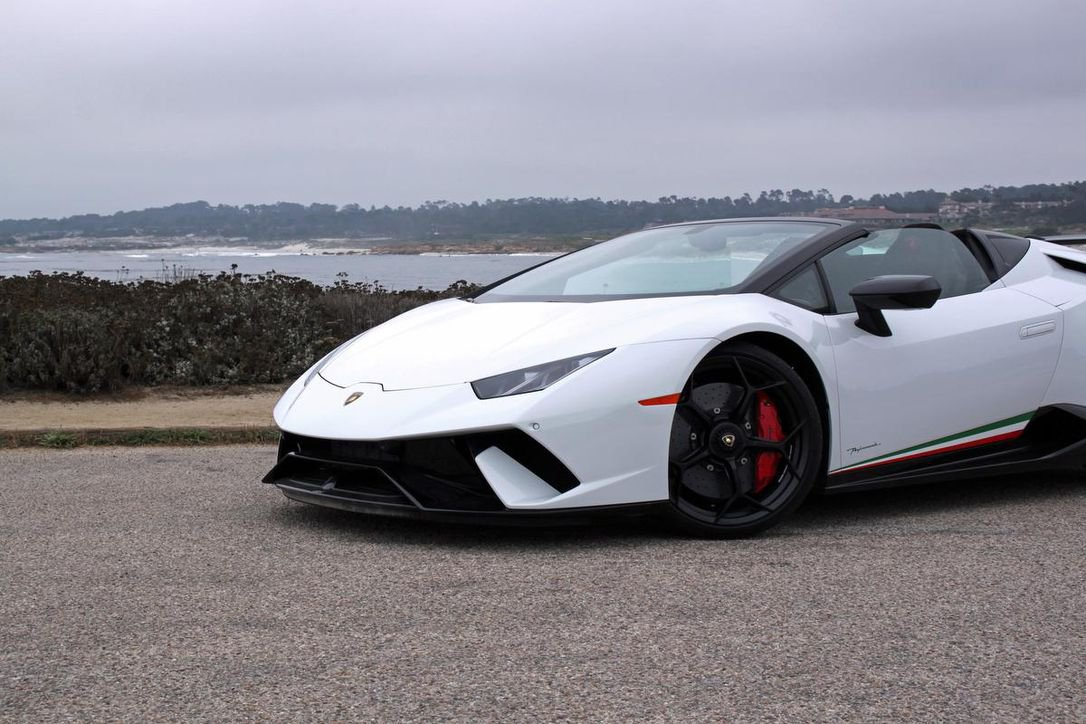car: (261, 205, 1075, 524)
